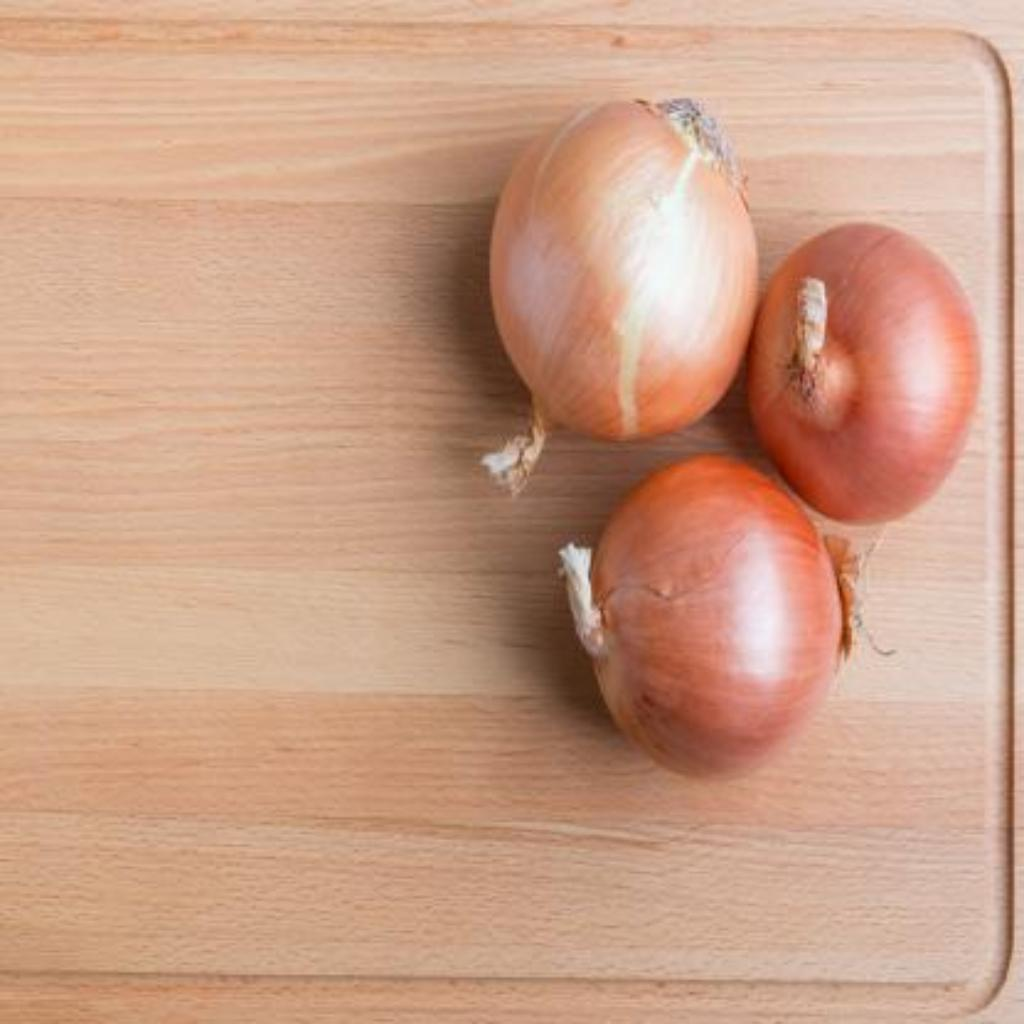Onion: (482, 98, 758, 494), (561, 455, 844, 774), (751, 224, 982, 523)
